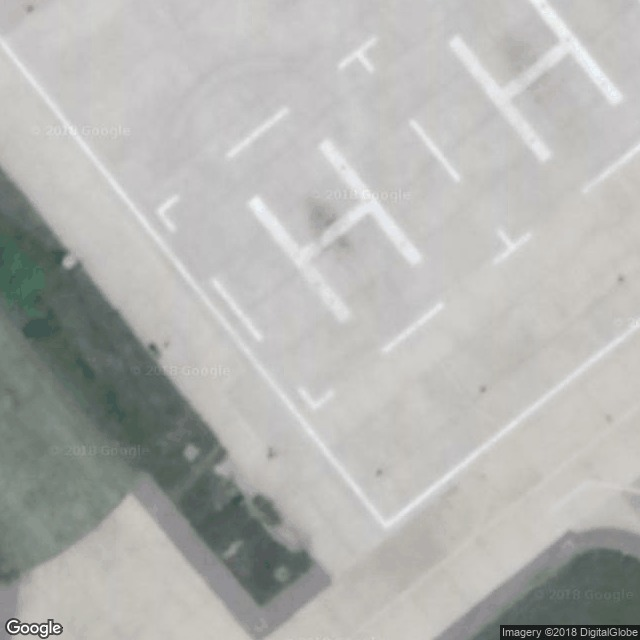heliport: (226, 133, 432, 330), (439, 0, 635, 169)
